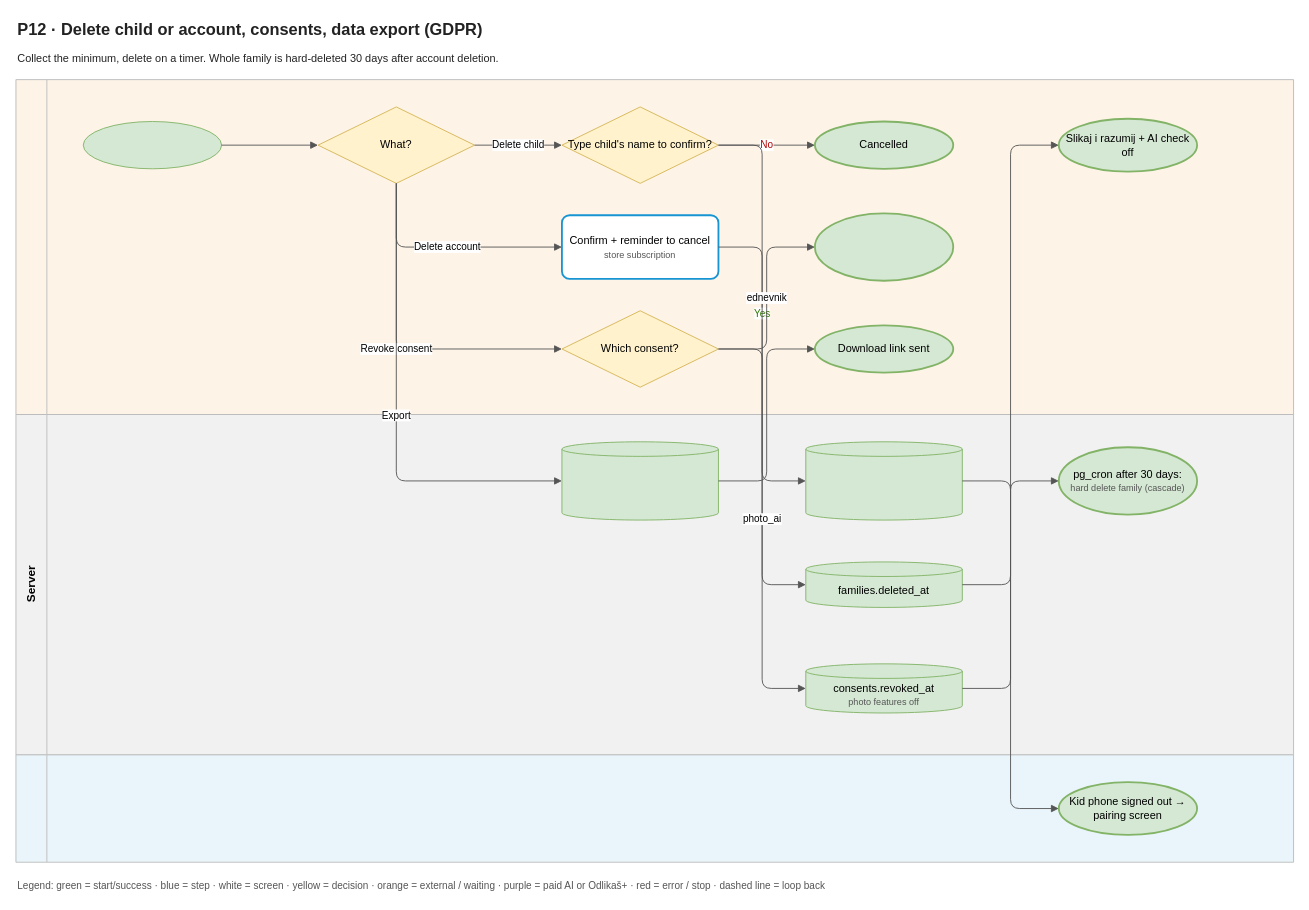
The diagram is 1309 pixels wide and 910 high, and some of its shapes have lost their labels. The shapes that lost their labels are listed below. From the top down, each one's box as (x1, y1, x2, y2) in pixels, then its label:
(82, 121, 222, 169): Postavke → Privatnost
(15, 79, 1294, 415): Parent app
(814, 212, 954, 281): Delete login from keystore stop sync
(561, 441, 718, 520): Export family data as JSON (Edge Function, signed link)
(805, 441, 962, 520): children.deleted_at, revoke devices cascade grades, plans, photo files
(15, 754, 1294, 862): Kid app
